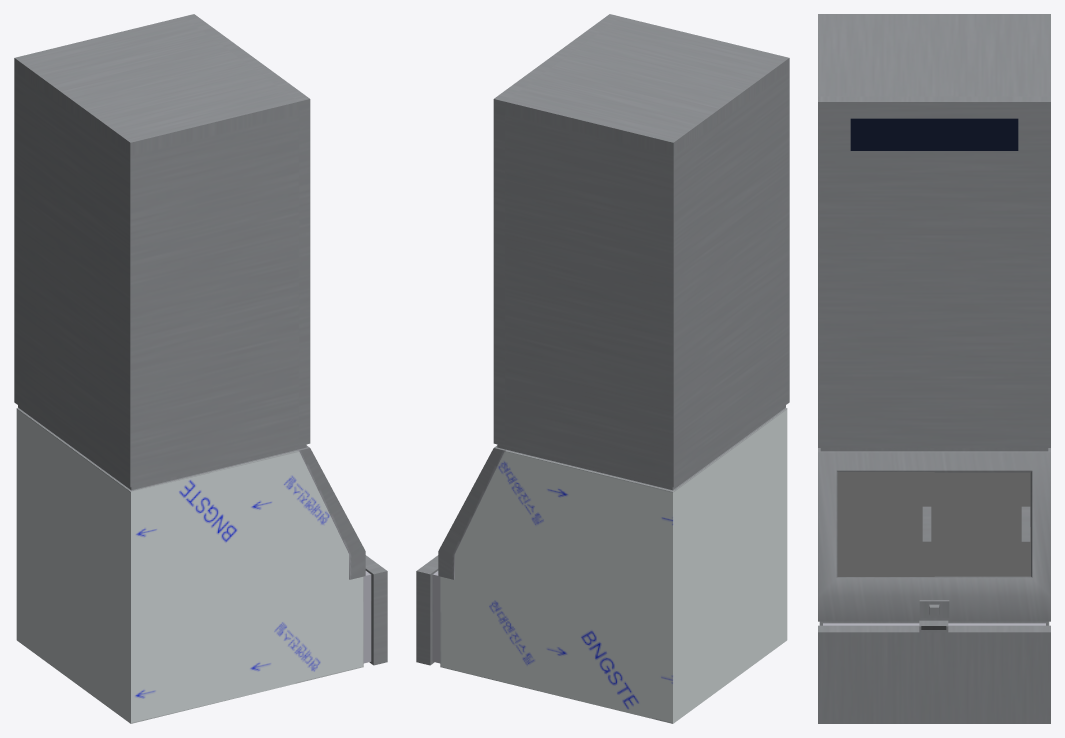
The model's file is LC_3091_Ice_machine_LOD1.fbx.
3 views of the same model, side by side, from view 1: azimuth 30°, elevation 25°; view 2: azimuth 150°, elevation 25°; view 3: azimuth 270°, elevation 25° (orthographic).
Parts seen in each view (by area): view 1: LC_3091_IM_L1; view 2: LC_3091_IM_L1; view 3: LC_3091_IM_L1, polySurface6, polySurface5.
Boxes of the visible parts, bbox=[...] form: LC_3091_IM_L1: bbox=[14, 14, 387, 723]; LC_3091_IM_L1: bbox=[416, 14, 789, 723]; LC_3091_IM_L1: bbox=[818, 14, 1050, 723]; polySurface6: bbox=[837, 472, 934, 576]; polySurface5: bbox=[934, 472, 1030, 576].
Bounding box in the file's own units: 89.48 × 192 × 69.2.
2 materials, 2 textured.
